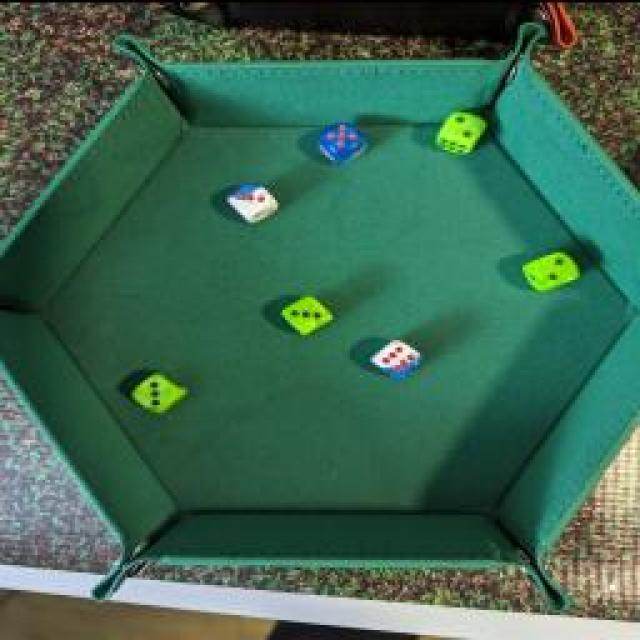dice_2: (515, 245, 580, 290), (438, 108, 492, 152)
dice_3: (125, 366, 190, 416), (224, 174, 284, 224), (277, 290, 335, 338)
dice_6: (365, 332, 425, 378)
